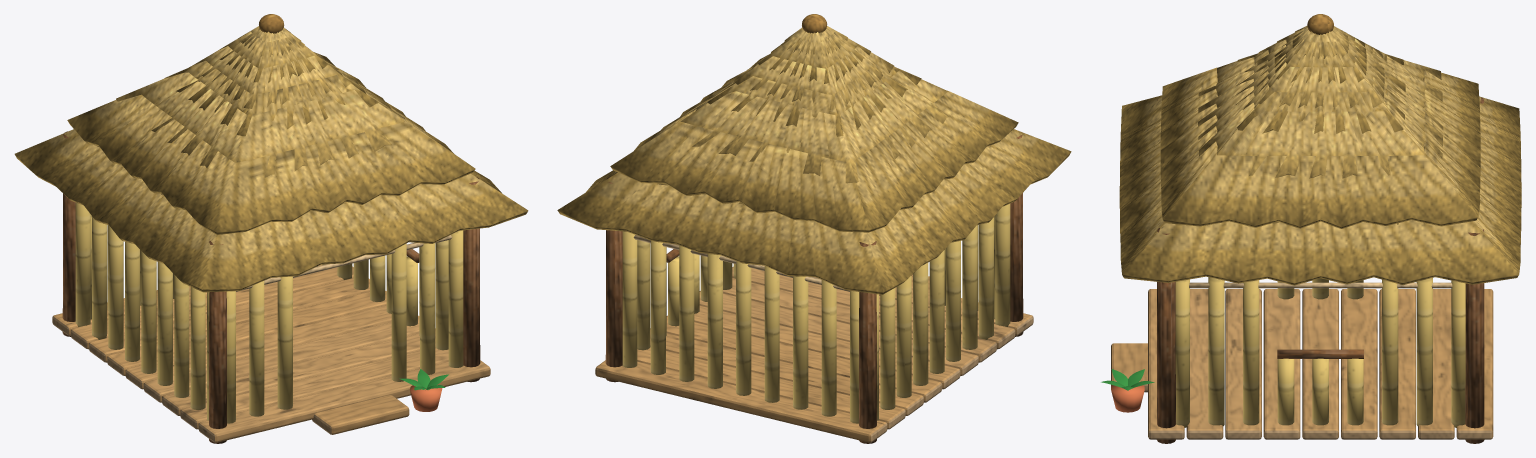
The model's file is hut.glb.
3 views of the same model, side by side, from view 1: azimuth 30°, elevation 25°; view 2: azimuth 150°, elevation 25°; view 3: azimuth 270°, elevation 25° (orthographic). The views are drawn at different scales.
Parts seen in each view (by area): view 1: Hut; view 2: Hut; view 3: Hut.
Part boxes in pixels (x1,y1,x2,y2): Hut: [14, 14, 528, 443]; Hut: [557, 14, 1071, 443]; Hut: [1101, 14, 1521, 443].
Size of the model in its own units: 4.17 by 4.11 by 4.37.
Materials: 1 (1 with a texture image).
